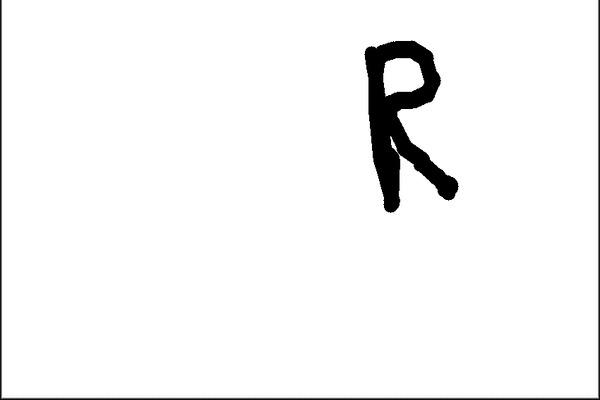R: (352, 30, 475, 215)
